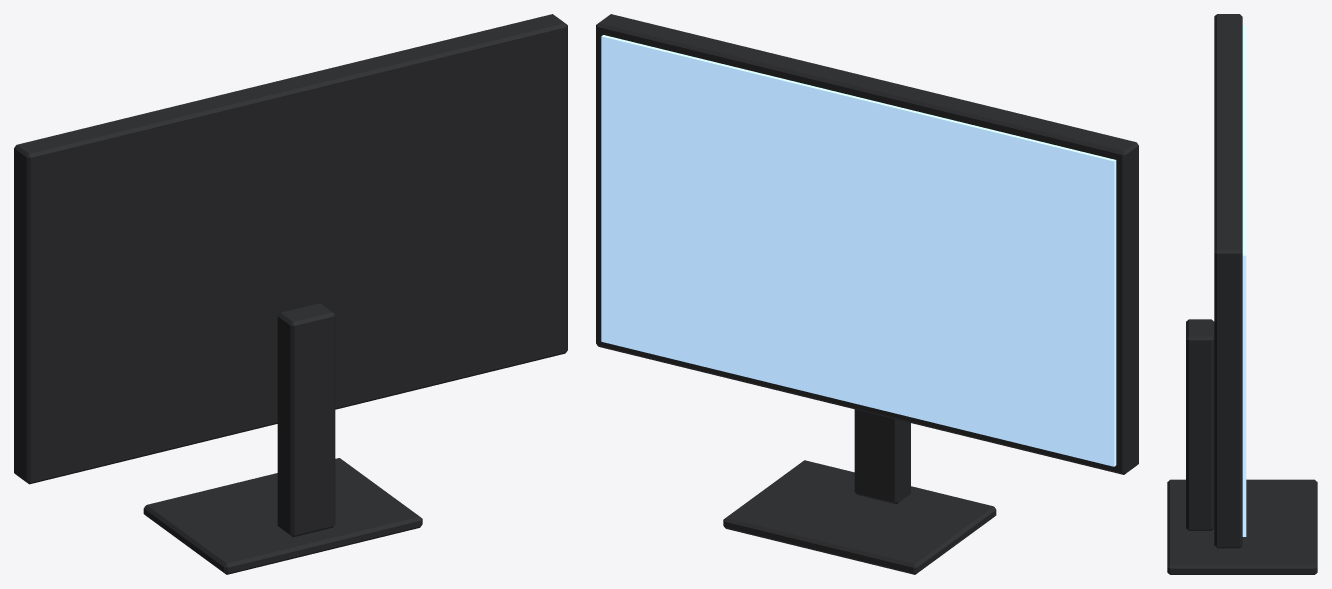
Rendered from prop_monitor.glb.
3 renders of one model, left to right at view 1: azimuth 30°, elevation 25°; view 2: azimuth 150°, elevation 25°; view 3: azimuth 270°, elevation 25°, orthographic. The views are drawn at different scales.
Visible parts, largest first — view 1: Monitor; view 2: Monitor; view 3: Monitor.
Boxes of the visible parts, box(x1,y1,x2,y2) form: Monitor: box(14, 14, 567, 574); Monitor: box(596, 14, 1138, 574); Monitor: box(1167, 14, 1317, 574).
Size of the model in its own units: 0.6 by 0.47 by 0.16.
